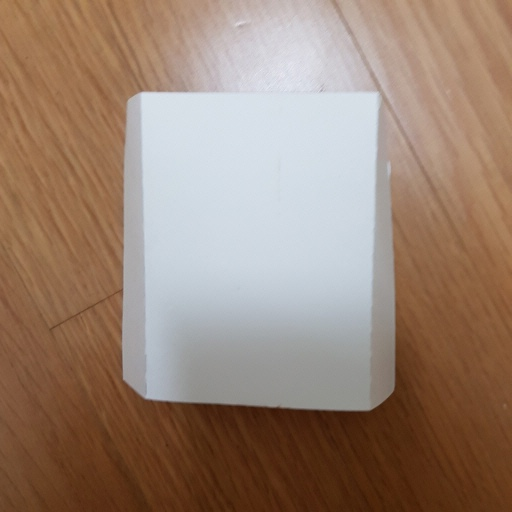Paper_3: (109, 74, 422, 429)
